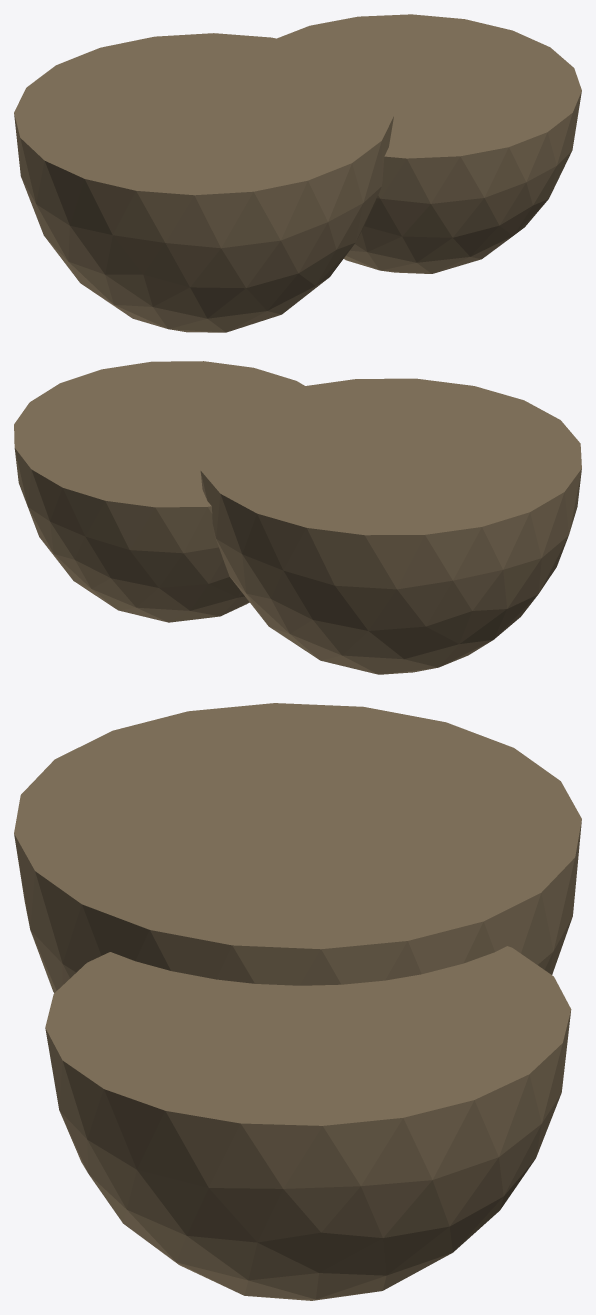
File: terra piccola 7.fbx
The picture shows the model from 3 angles, top to bottom: view 1: azimuth 30°, elevation 25°; view 2: azimuth 150°, elevation 25°; view 3: azimuth 270°, elevation 25°; orthographic projection. The views are drawn at different scales.
Parts seen in each view (by area): view 1: terra main.001; view 2: terra main.001; view 3: terra main.001.
Boxes of the visible parts, x1,y1,x2,y2 form: terra main.001: (14,14,581,332); terra main.001: (14,361,581,674); terra main.001: (14,703,581,1300).
Bounding box in the file's own units: 2308 × 869 × 1442.
